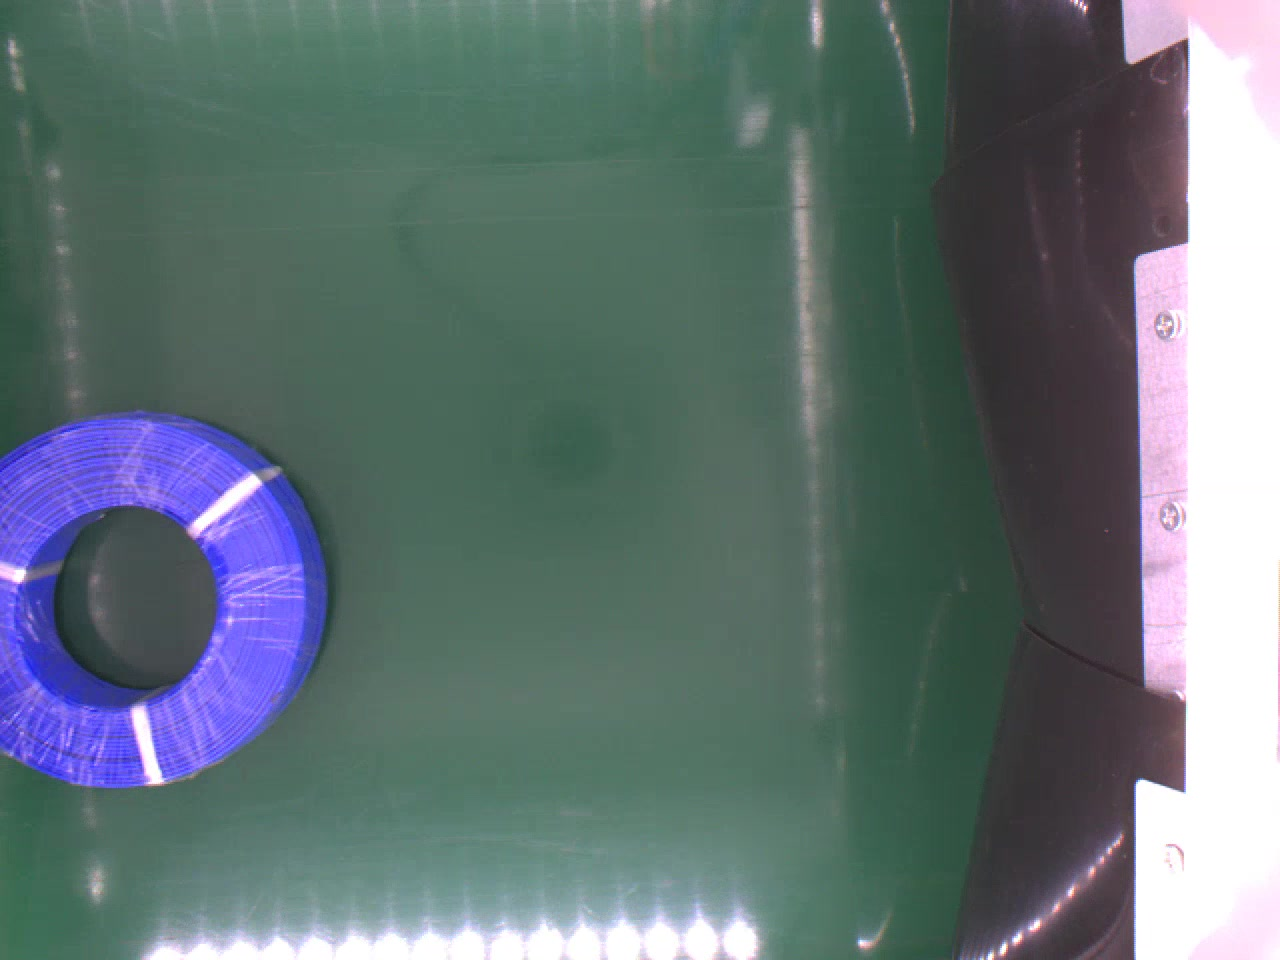blue: (0, 404, 330, 792)
